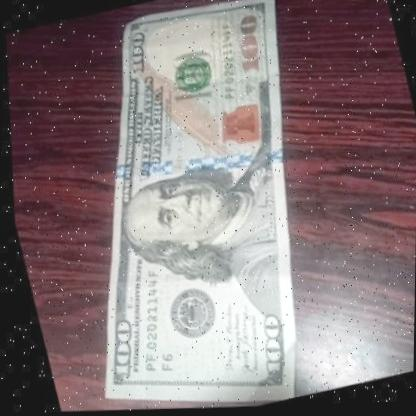dollar_front: (6, 0, 371, 416)
